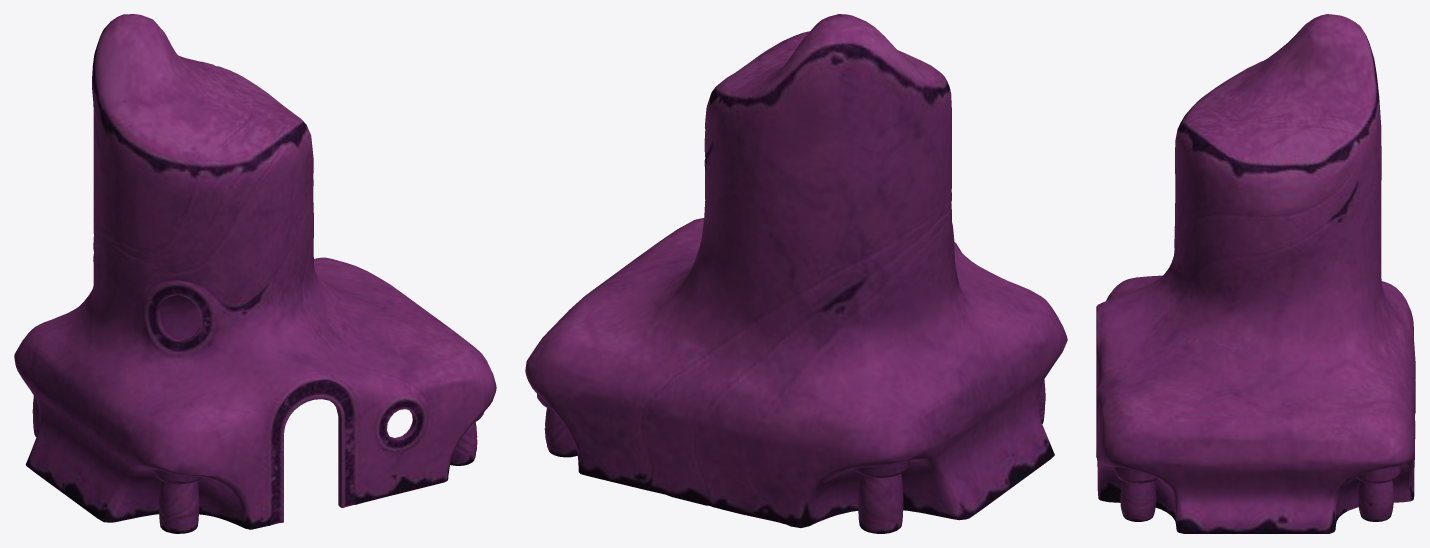
File: sky_hut_c_chaos_v35.glb
3 renders of one model, left to right at view 1: azimuth 30°, elevation 25°; view 2: azimuth 150°, elevation 25°; view 3: azimuth 270°, elevation 25°, orthographic. The views are drawn at different scales.
Parts seen in each view (by area): view 1: hut_c; view 2: hut_c; view 3: hut_c.
Part boxes in pixels (x1,y1,x2,y2): hut_c: [14, 14, 496, 533]; hut_c: [525, 14, 1067, 533]; hut_c: [1096, 14, 1415, 533].
Bounding box in the file's own units: 8.12 × 8.68 × 6.37.
Materials: 1 (1 with a texture image).
